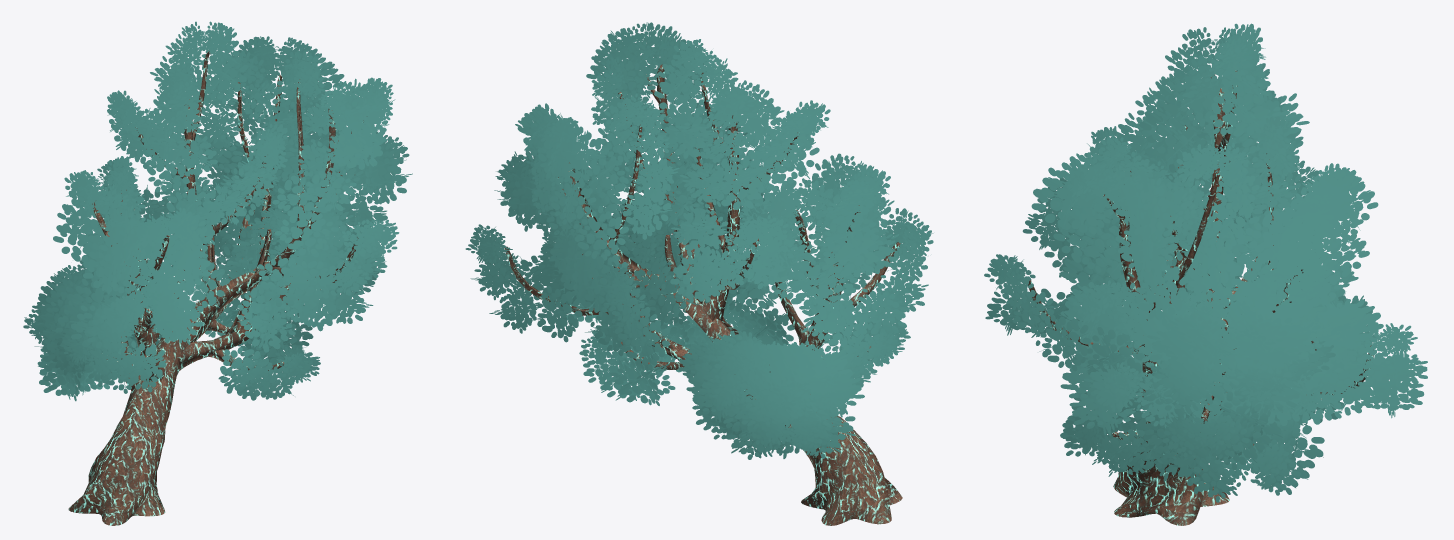
File: dtree_twisted_1.glb
3 renders of one model, left to right at view 1: azimuth 30°, elevation 25°; view 2: azimuth 150°, elevation 25°; view 3: azimuth 270°, elevation 25°, orthographic. The views are drawn at different scales.
Parts seen in each view (by area): view 1: model; view 2: model; view 3: model.
Part boxes in pixels (left/top/right/bottom): model: left=23, top=21, right=412, bottom=525; model: left=465, top=22, right=933, bottom=525; model: left=984, top=23, right=1427, bottom=525.
Bounding box in the file's own units: 7.69 × 8.51 × 6.57.
Materials: 2 (2 with a texture image).
